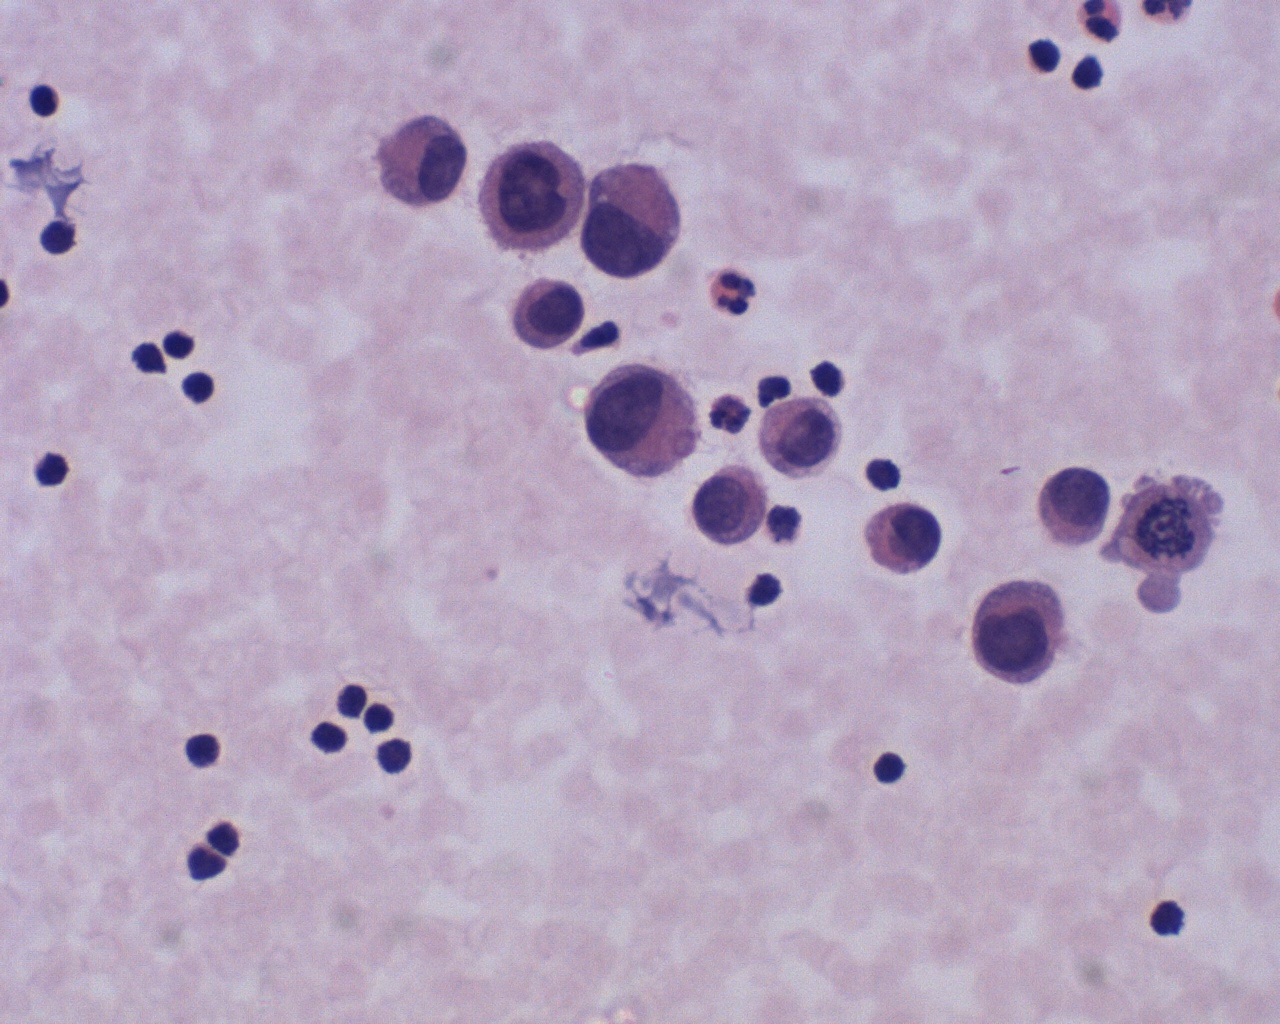ab: (1111, 460, 1235, 610), (573, 351, 702, 482), (578, 152, 699, 284), (478, 119, 586, 254), (964, 571, 1075, 689), (672, 448, 771, 556), (1018, 458, 1124, 554), (495, 271, 591, 350), (862, 497, 950, 580)
lymph: (172, 723, 236, 776), (861, 743, 924, 795), (30, 443, 78, 499), (1145, 890, 1190, 941), (38, 216, 87, 261), (310, 713, 352, 763), (376, 736, 420, 781), (178, 366, 220, 410), (25, 75, 63, 123)
neutro: (706, 259, 770, 320)
